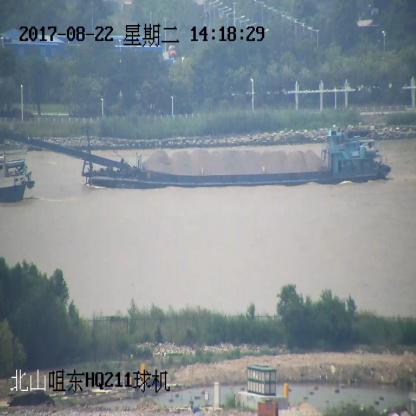Fishing Boat: (0, 154, 36, 202)
